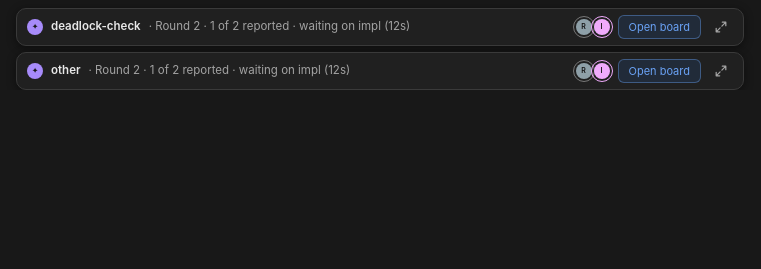
Test: the pinned team strip › keeps teams' expansion independent
Step 1. Click the button named "Expand deadlock-check" → (721, 27), box [709, 15, 733, 39]
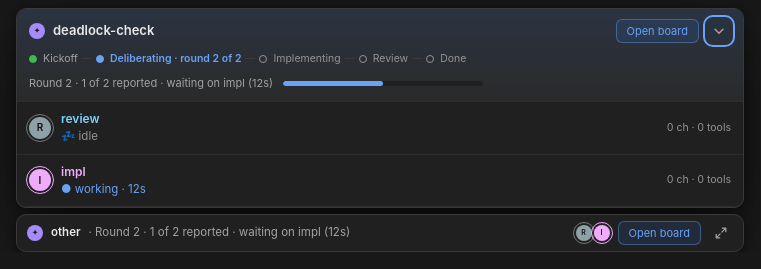
Check: the element with test id "team-card" is shown
